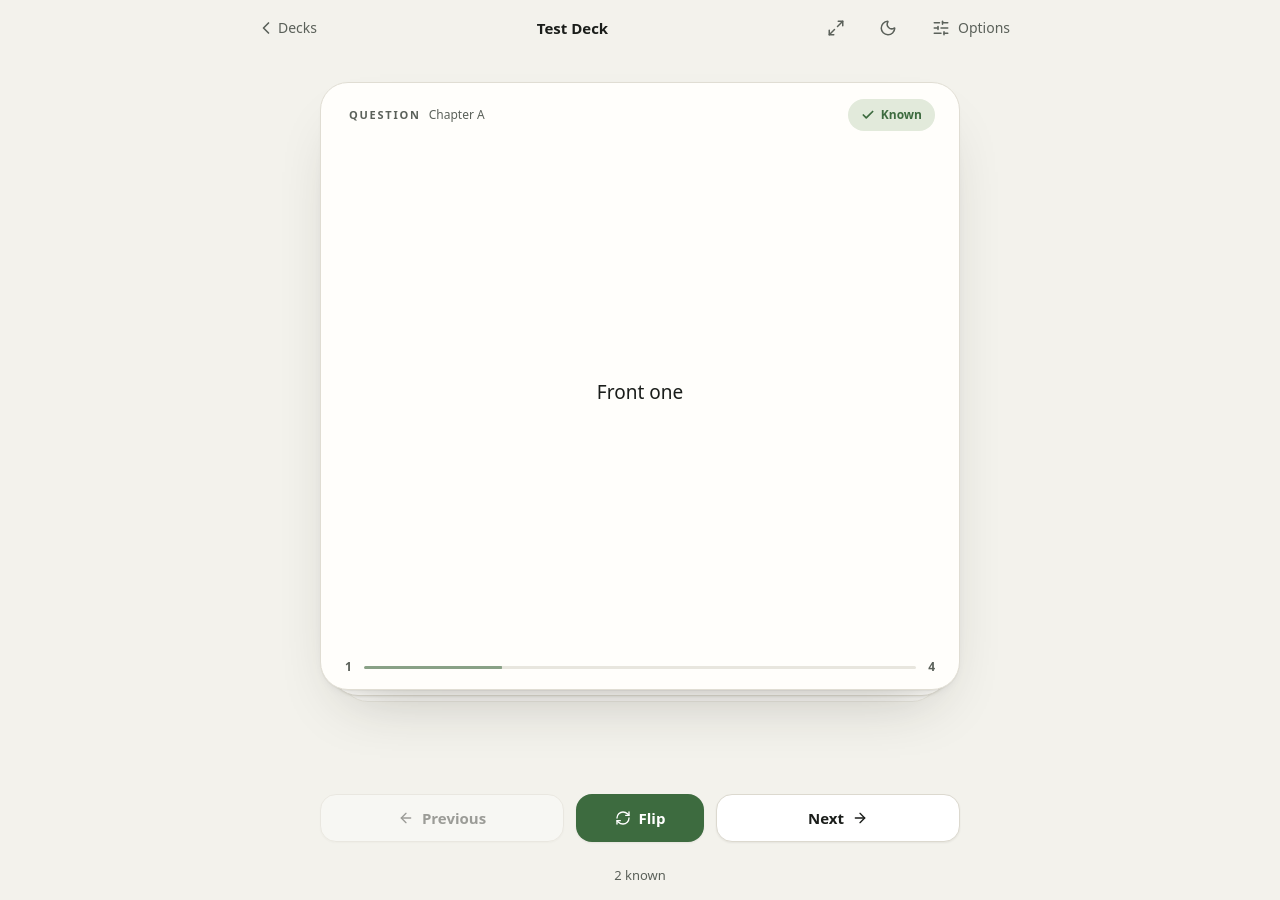
it: known tracking › clears this deck's progress from the options sheet
Expected: the text "2 known" is shown, [614,866,666,886]
Click the button with aria-label "Study options".
click(971, 28)  # box [918,6,1024,50]
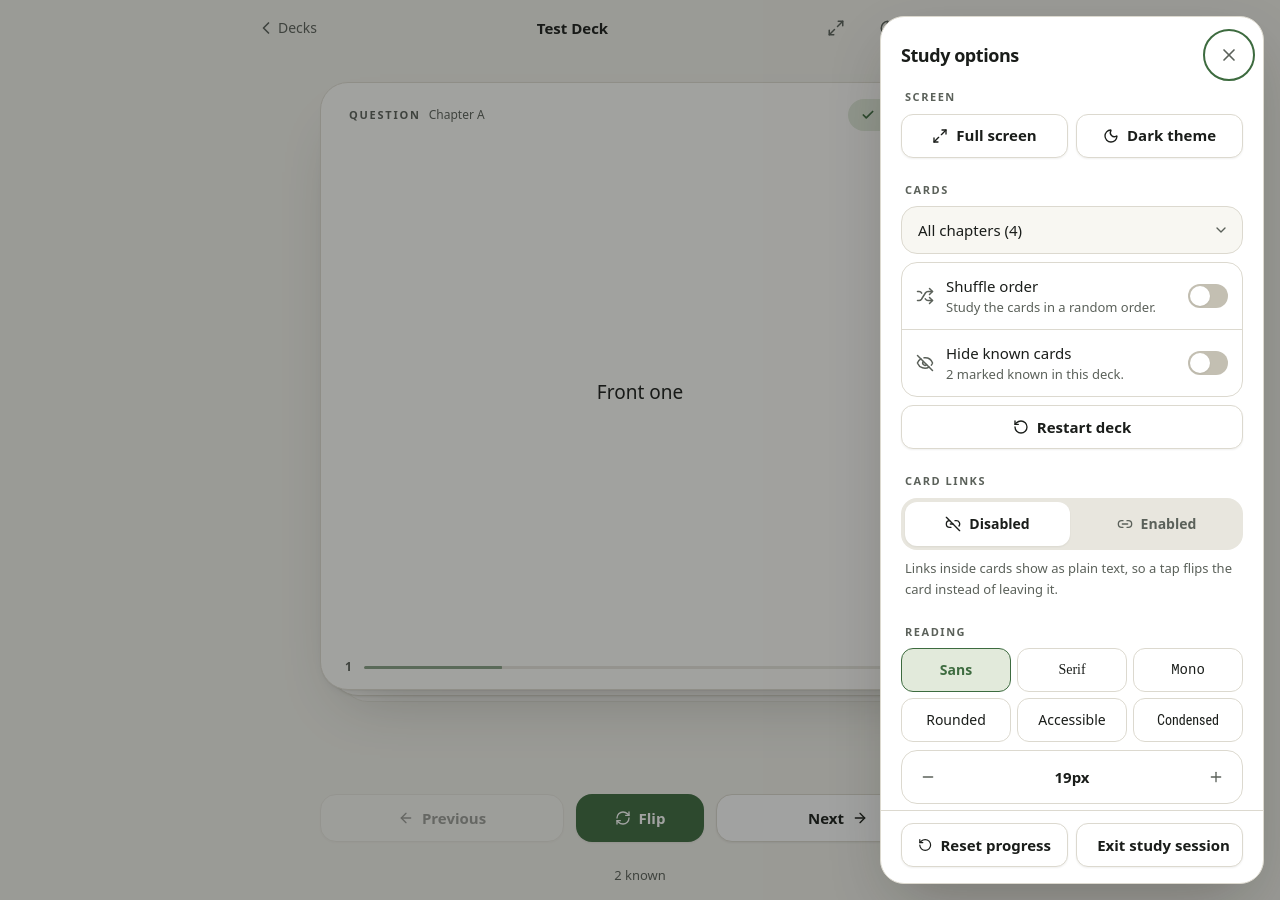
Click the button "Reset progress".
click(984, 845)  # box [901,823,1068,867]
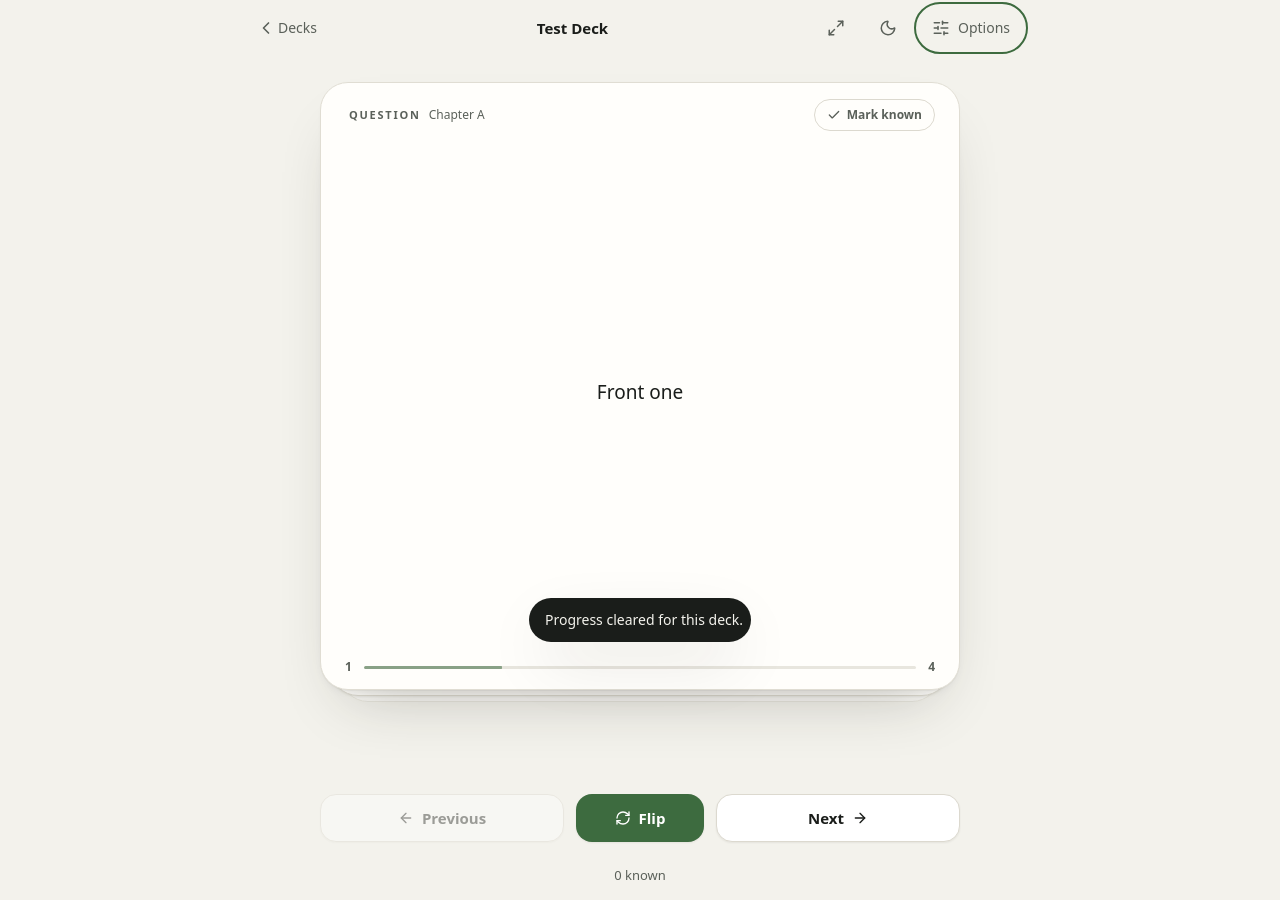
Result: the text "0 known" is shown at [614,866,666,886]
